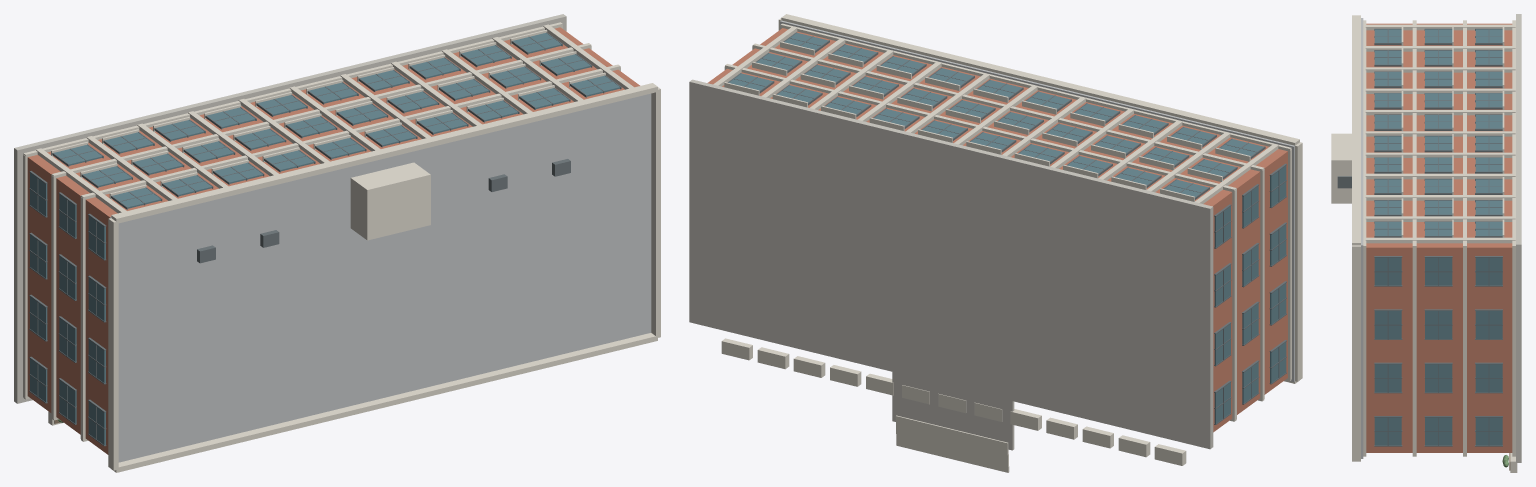
Rendered from city_school.glb.
3 views of the same model, side by side, from view 1: azimuth 30°, elevation 25°; view 2: azimuth 150°, elevation 25°; view 3: azimuth 270°, elevation 25° (orthographic). The views are drawn at different scales.
Parts seen in each view (by area): view 1: Flat rooftop surface, Main brick building mass, Building foundation plinth, Roof parapet long 9.38, Roof parapet long -9.38, Rooftop stair core, Roof parapet end -21.38, Rear concrete band 4.25, Rear concrete band 8.25, Roof parapet end 21.38, Rear concrete band 0.35, Left concrete band 8.25 (+13 smaller); view 2: Building foundation plinth, Main brick building mass, Entrance landing, Roof parapet long 9.38, Flat rooftop surface, Rear concrete band 4.25, Rear concrete band 8.25, Rear concrete band 12.25, Roof parapet end -21.38, Left concrete band 8.25, Left concrete band 4.25, Left concrete band 12.25 (+16 smaller); view 3: Main brick building mass, Building foundation plinth, Roof parapet long 9.38, Roof parapet end 21.38, Rooftop stair core, Flat rooftop surface, Right concrete band 8.25, Concrete facade pier 20.0 9.1, Rear concrete band 8.25, Concrete facade pier 8.0 9.1, Concrete facade pier 4.0 9.1, Concrete facade pier 16.0 9.1 (+55 smaller).
Part boxes in pixels (<box>): Flat rooftop surface: <box>110,93,651,462</box>; Main brick building mass: <box>27,27,640,454</box>; Building foundation plinth: <box>14,14,566,403</box>; Roof parapet long 9.38: <box>111,83,657,223</box>; Roof parapet long -9.38: <box>111,333,657,472</box>; Rooftop stair core: <box>350,162,430,240</box>; Roof parapet end -21.38: <box>108,218,118,470</box>; Rear concrete band 4.25: <box>51,43,591,180</box>; Rear concrete band 8.25: <box>81,64,620,201</box>; Roof parapet end 21.38: <box>651,87,660,337</box>; Rear concrete band 0.35: <box>23,22,562,158</box>; Left concrete band 8.25: <box>80,197,86,440</box>; Building foundation plinth: <box>689,79,1213,449</box>; Main brick building mass: <box>707,28,1287,432</box>; Entrance landing: <box>892,372,1014,450</box>; Roof parapet long 9.38: <box>781,14,1299,145</box>; Flat rooftop surface: <box>780,20,1294,381</box>; Rear concrete band 4.25: <box>725,64,1236,193</box>; Rear concrete band 8.25: <box>752,43,1264,172</box>; Rear concrete band 12.25: <box>780,23,1291,153</box>; Roof parapet end -21.38: <box>1295,142,1302,381</box>; Left concrete band 8.25: <box>1258,169,1264,400</box>; Left concrete band 4.25: <box>1230,189,1236,420</box>; Left concrete band 12.25: <box>1286,149,1291,379</box>; Main brick building mass: <box>1366,23,1512,452</box>; Building foundation plinth: <box>1516,14,1521,462</box>; Roof parapet long 9.38: <box>1352,15,1360,245</box>; Roof parapet end 21.38: <box>1352,245,1360,460</box>; Rooftop stair core: <box>1331,133,1351,203</box>; Flat rooftop surface: <box>1361,18,1363,458</box>; Right concrete band 8.25: <box>1412,247,1416,455</box>; Concrete facade pier 20.0 9.1: <box>1365,237,1515,243</box>; Rear concrete band 8.25: <box>1412,20,1416,246</box>; Concrete facade pier 8.0 9.1: <box>1365,173,1515,179</box>; Concrete facade pier 4.0 9.1: <box>1365,152,1515,157</box>; Concrete facade pier 16.0 9.1: <box>1365,216,1515,221</box>.
Bounding box in the file's own units: 43.3 × 25.11 × 15.08.
